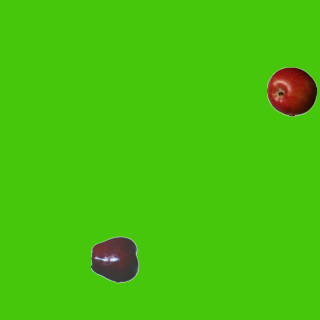Apple Braeburn: (266, 66, 316, 116)
Apple Red Delicious: (90, 234, 140, 284)
